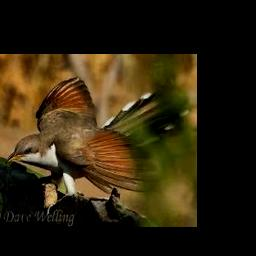Cuckoo: (5, 76, 188, 196)
